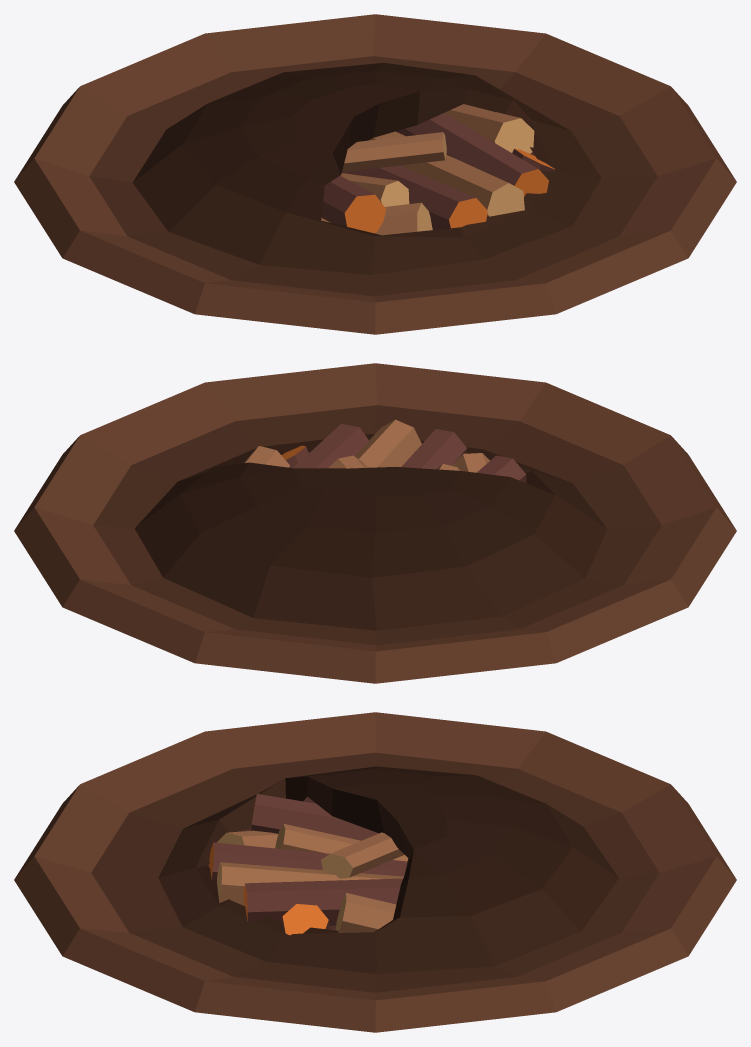
The model's file is charcoal_ maker_lowpoly_1.fbx.
The picture shows the model from 3 angles, top to bottom: view 1: azimuth 30°, elevation 25°; view 2: azimuth 150°, elevation 25°; view 3: azimuth 270°, elevation 25°; orthographic projection.
Visible parts, largest first — view 1: Circle.002; view 2: Circle.002; view 3: Circle.002.
Boxes of the visible parts, box(x1,y1,x2,y2) form: Circle.002: box(14, 14, 736, 334); Circle.002: box(14, 363, 736, 683); Circle.002: box(14, 712, 736, 1032).
Bounding box in the file's own units: 200 × 32.57 × 200.
